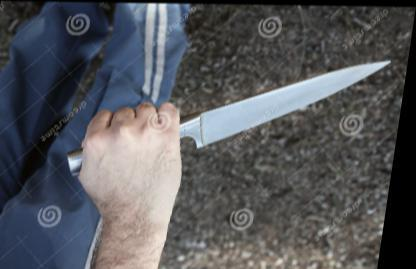knife: (100, 50, 399, 169)
